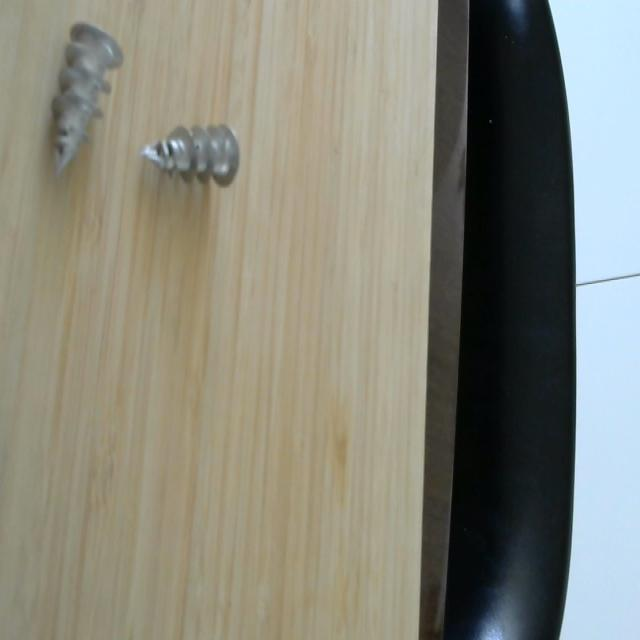Short screw: (39, 12, 135, 187), (129, 115, 249, 202)
